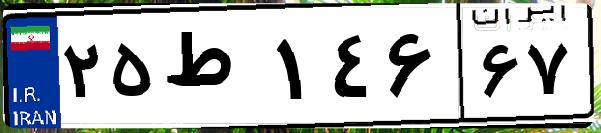1: (270, 28, 330, 110)
2: (57, 26, 110, 100)
4: (330, 28, 385, 110)
5: (110, 28, 158, 98)
6: (385, 28, 445, 110), (475, 38, 525, 113)
7: (525, 38, 570, 115)
ط: (158, 20, 270, 120)
